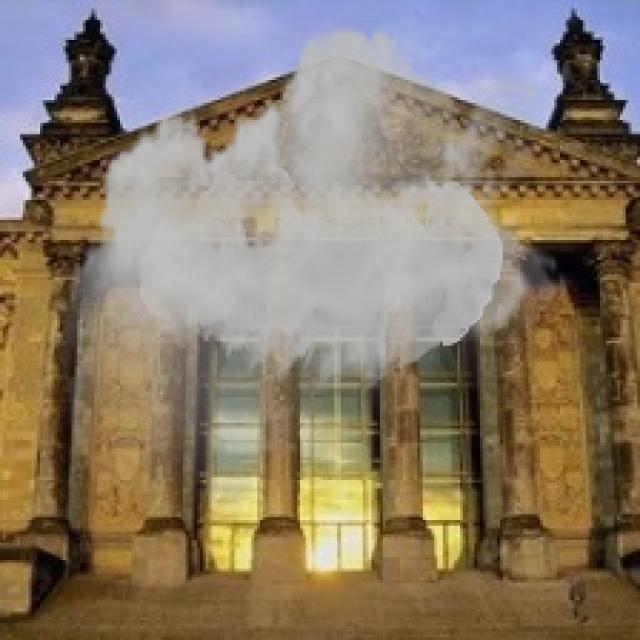smoke: (57, 6, 572, 534)
